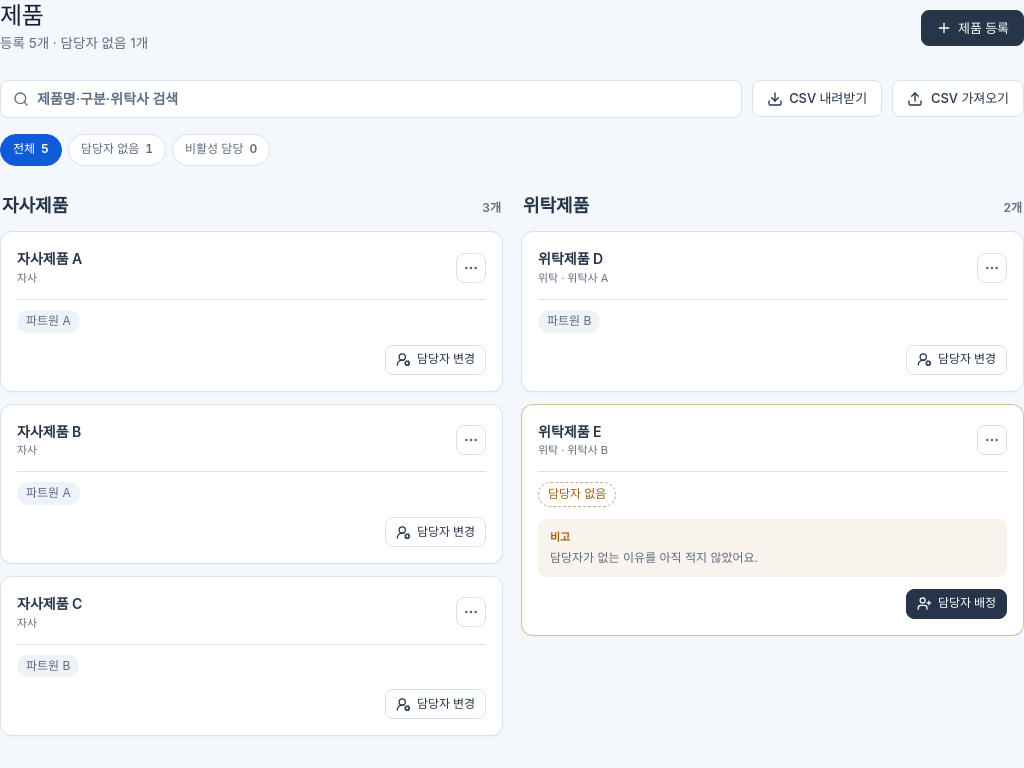
Test case: ProductMasterPanel › moves the pending change tasks together with a new owner in one save
The width and height of the screenshot is (1024, 768).
Click the 3rd button "담당자 변경" at (436, 532), box left=385, top=517, right=486, bottom=547
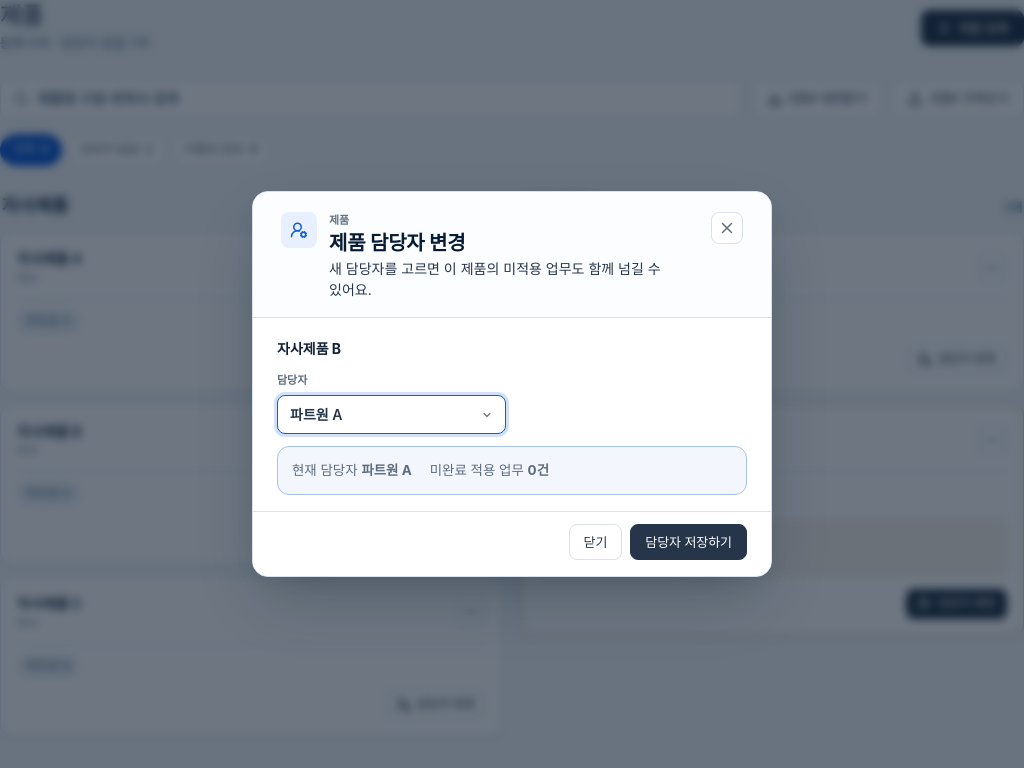
Select "파트원 B" in the dropdown labelled "담당자" at (392, 415), box left=277, top=395, right=506, bottom=434
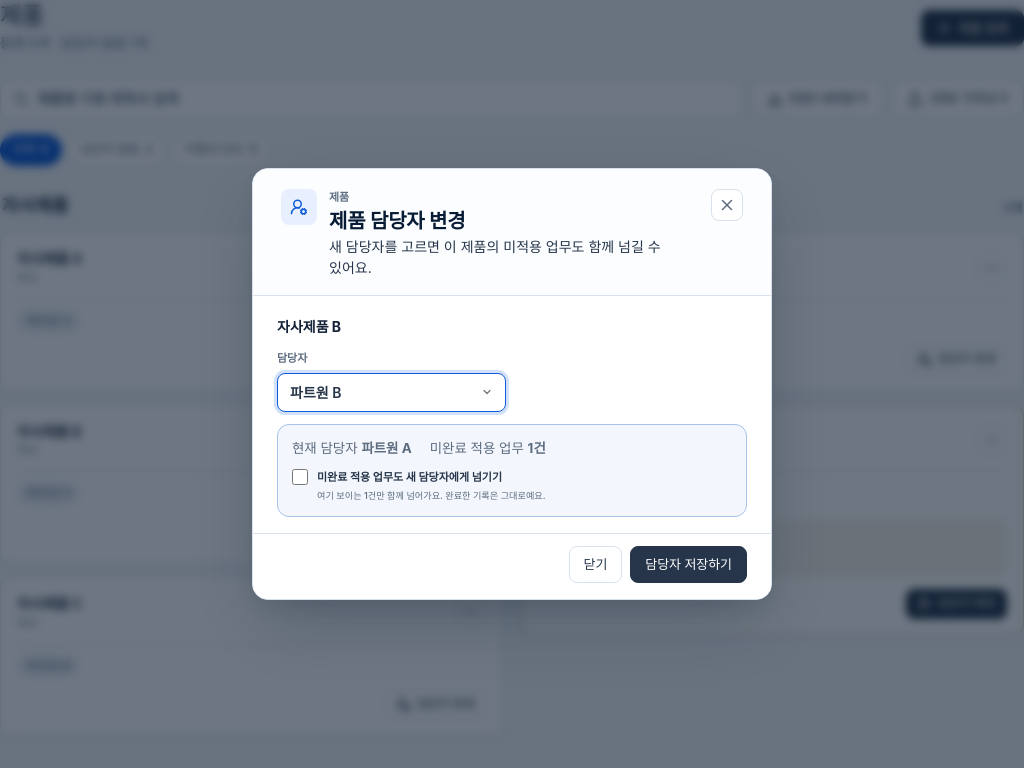
Click the checkbox labelled "미완료 적용 업무도 새 담당자에게 넘기기 여기 보이는 1건만 함께 넘어가요. 완료한 기록은 그대로예요." at (300, 477), box left=292, top=469, right=308, bottom=485
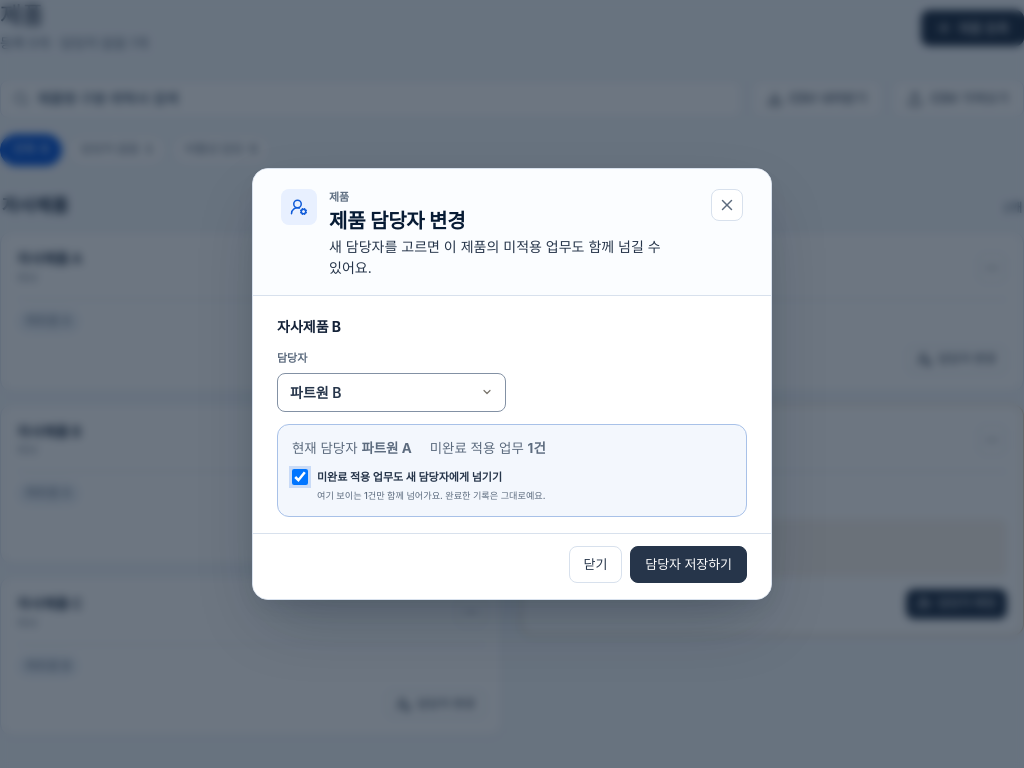
Click the button "담당자 저장하기" at (689, 564), box left=630, top=546, right=747, bottom=582
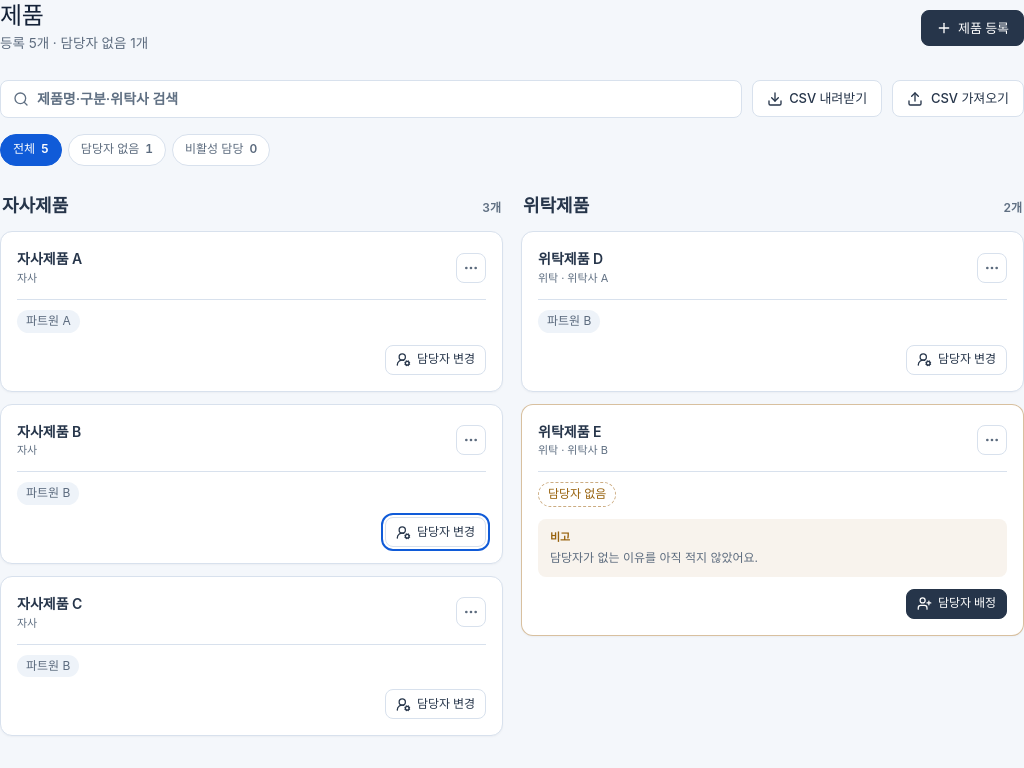
Now the dialog is gone
Now the text "파트원 B" below "자사제품 B" is shown, box left=26, top=486, right=70, bottom=500
